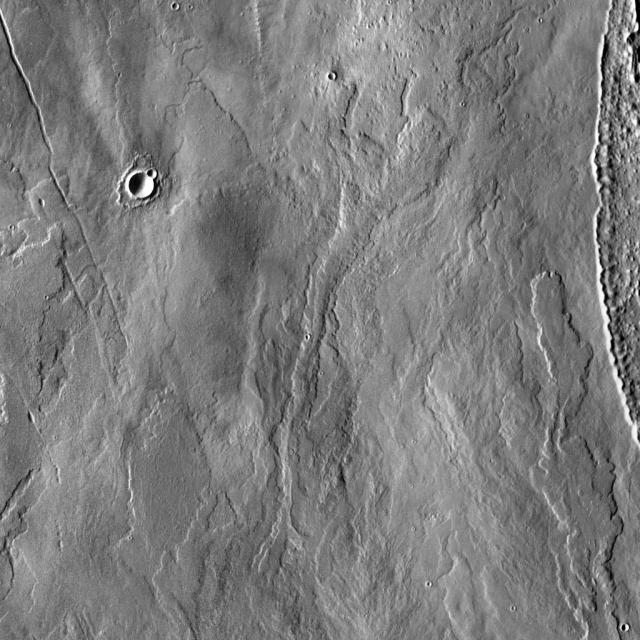crater: (129, 175, 155, 201), (149, 171, 158, 181), (325, 68, 333, 75), (618, 620, 626, 626), (168, 0, 175, 5)
